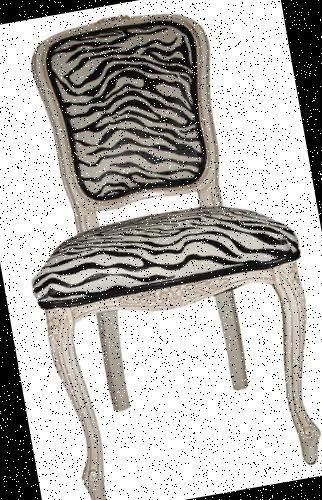Silla: (0, 1, 321, 499)
